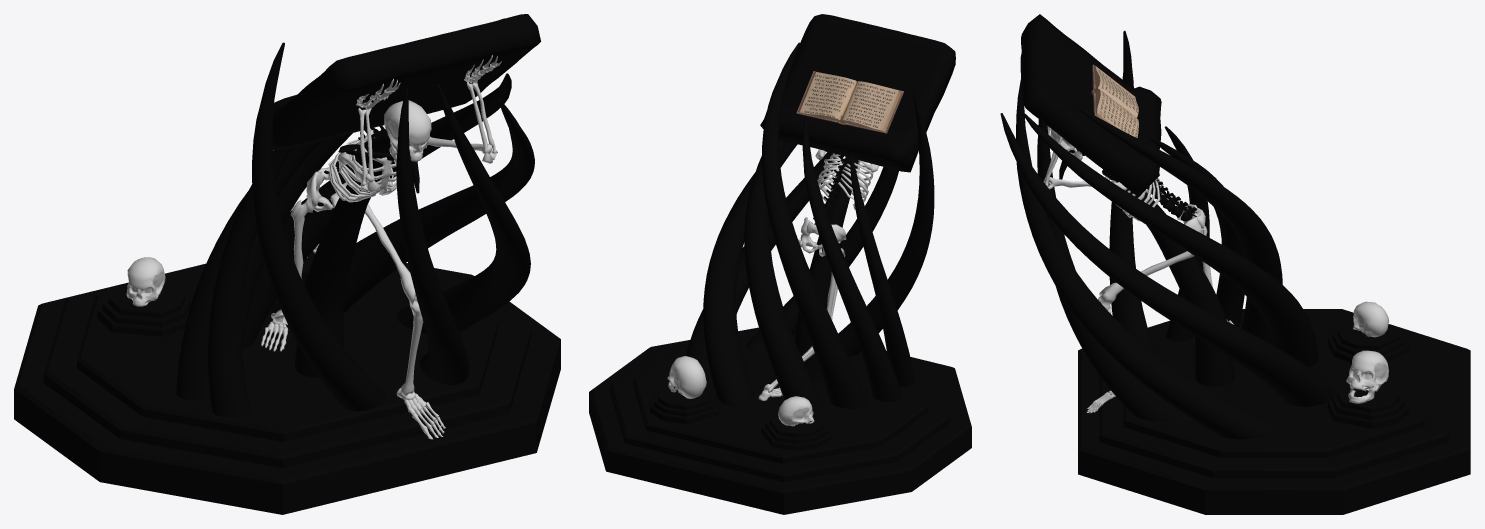
The model's file is tentacles_skeleton_desk.fbx.
The picture shows the model from 3 angles, left to right: view 1: azimuth 30°, elevation 25°; view 2: azimuth 150°, elevation 25°; view 3: azimuth 270°, elevation 25°; orthographic projection. The views are drawn at different scales.
Parts seen in each view (by area): view 1: tentacles_skeleton_desk; view 2: tentacles_skeleton_desk; view 3: tentacles_skeleton_desk.
Boxes of the visible parts, left/top/right/bottom form: tentacles_skeleton_desk: left=14, top=14, right=560, bottom=514; tentacles_skeleton_desk: left=589, top=14, right=971, bottom=514; tentacles_skeleton_desk: left=1000, top=14, right=1470, bottom=514.
Bounding box in the file's own units: 188 × 183 × 207.
